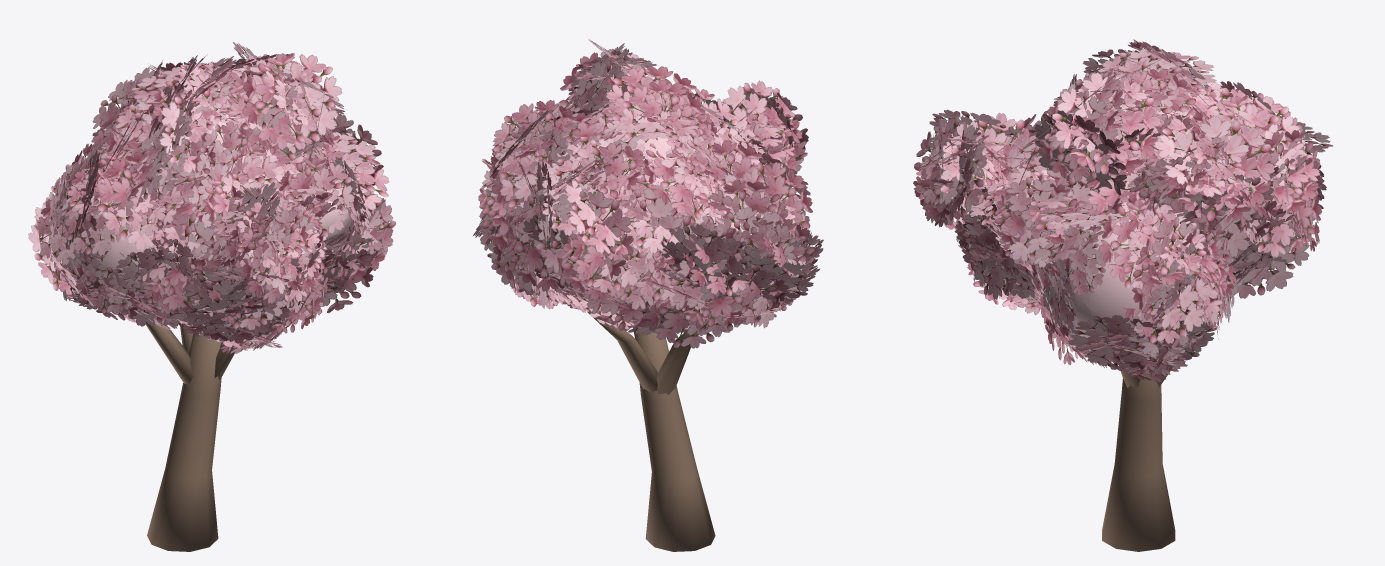
File: sakura.glb
The picture shows the model from 3 angles, left to right: view 1: azimuth 30°, elevation 25°; view 2: azimuth 150°, elevation 25°; view 3: azimuth 270°, elevation 25°; orthographic projection. The views are drawn at different scales.
Visible parts, largest first — view 1: sakura_blossoms, sakura_trunk, sakura_canopy, sakura_branch_0; view 2: sakura_blossoms, sakura_trunk, sakura_branch_0, sakura_canopy; view 3: sakura_blossoms, sakura_trunk, sakura_canopy.
Part boxes in pixels (x1=…): sakura_blossoms: x1=28, y1=42, x2=395, y2=354; sakura_trunk: x1=147, y1=329, x2=221, y2=551; sakura_canopy: x1=75, y1=99, x2=371, y2=333; sakura_branch_0: x1=145, y1=322, x2=236, y2=385; sakura_blossoms: x1=473, y1=39, x2=823, y2=348; sakura_trunk: x1=634, y1=328, x2=715, y2=551; sakura_branch_0: x1=587, y1=310, x2=708, y2=394; sakura_canopy: x1=544, y1=73, x2=754, y2=306; sakura_blossoms: x1=913, y1=39, x2=1332, y2=382; sakura_trunk: x1=1102, y1=372, x2=1175, y2=551; sakura_canopy: x1=971, y1=105, x2=1272, y2=351.
Size of the model in its own units: 3.21 by 3.96 by 3.3.
Materials: 4 (1 with a texture image).
